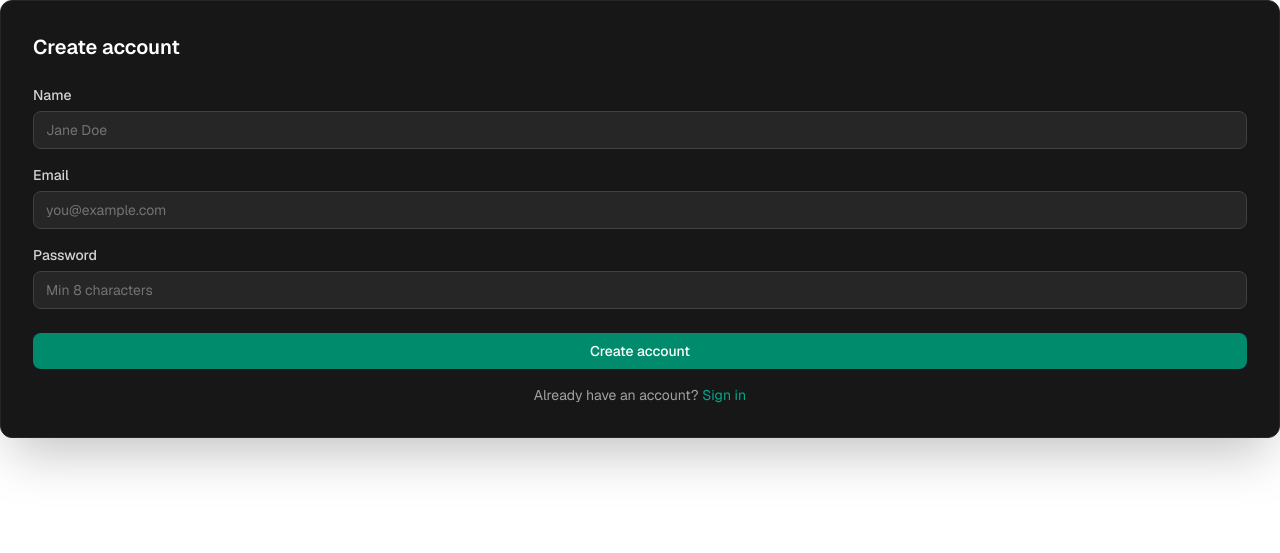
Test: Register page › displays error on failure
Type "Jane" into the field labelled "Name".
click(640, 130); type("Jane")  # box x1=33 y1=111 x2=1247 y2=149
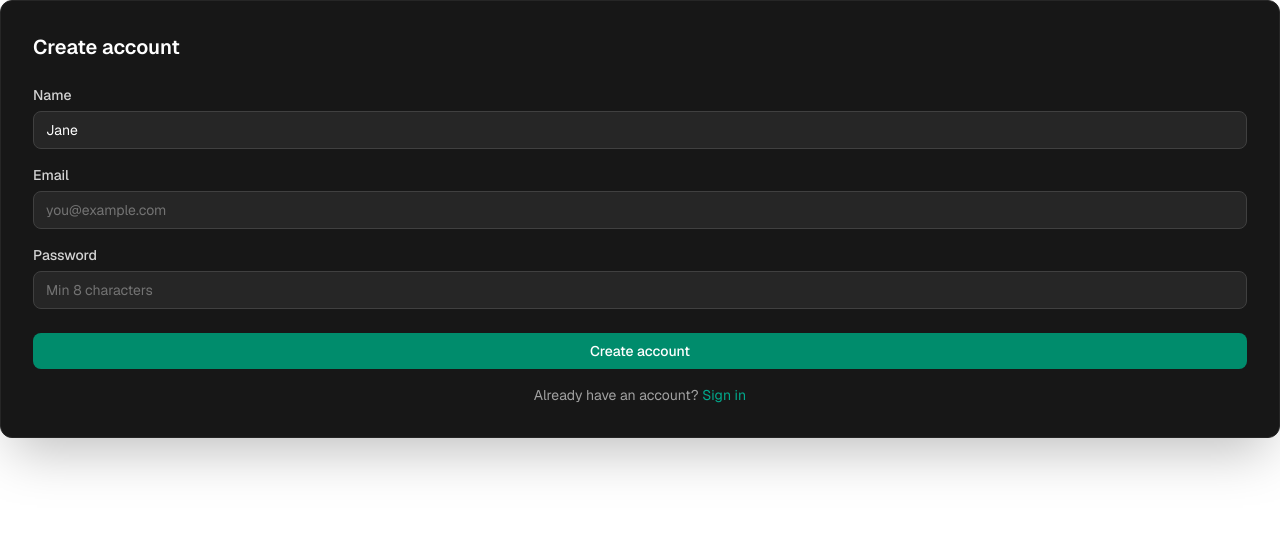
Type "j@b.com" into the field labelled "Email".
click(640, 210); type("j@b.com")  # box x1=33 y1=191 x2=1247 y2=229
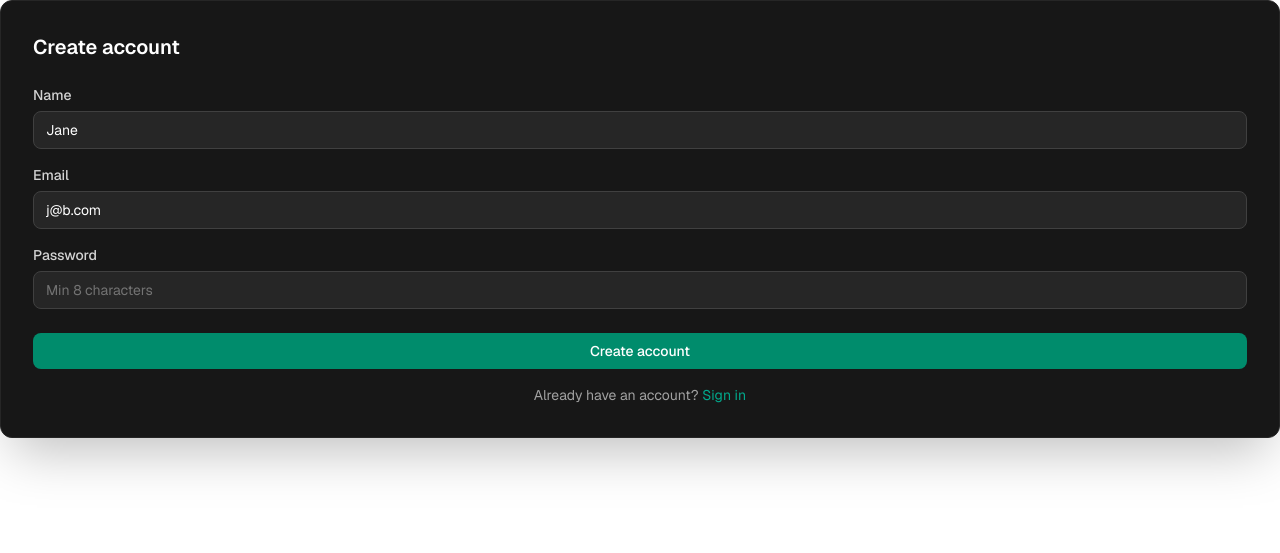
Type "pass1234" into the password field labelled "Password".
click(640, 290); type("pass1234")  # box x1=33 y1=271 x2=1247 y2=309
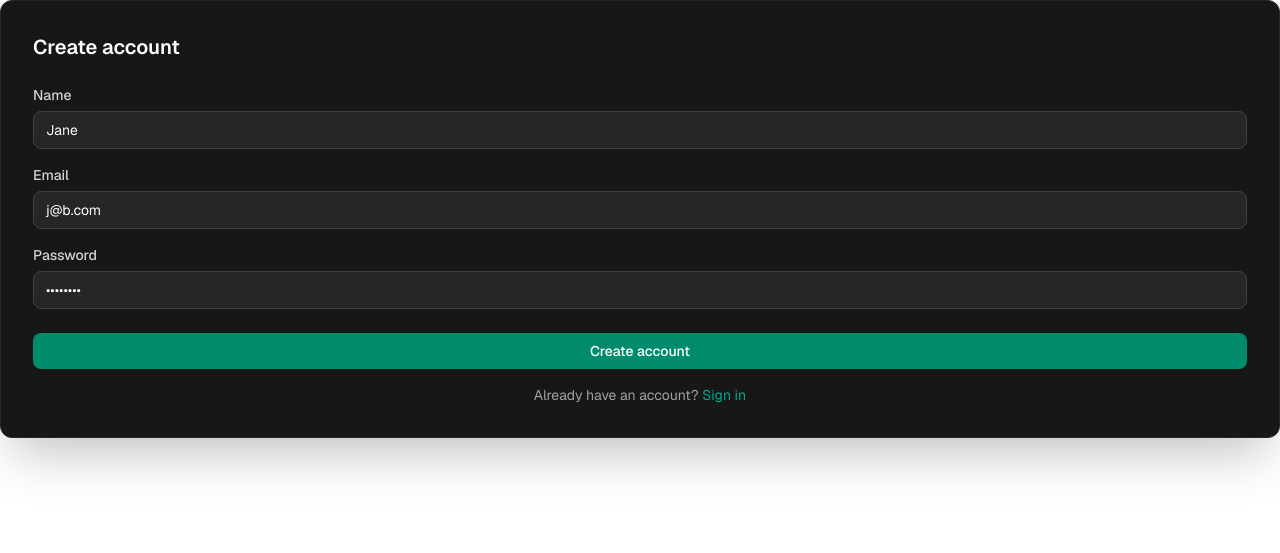
Submit the form "Create account"
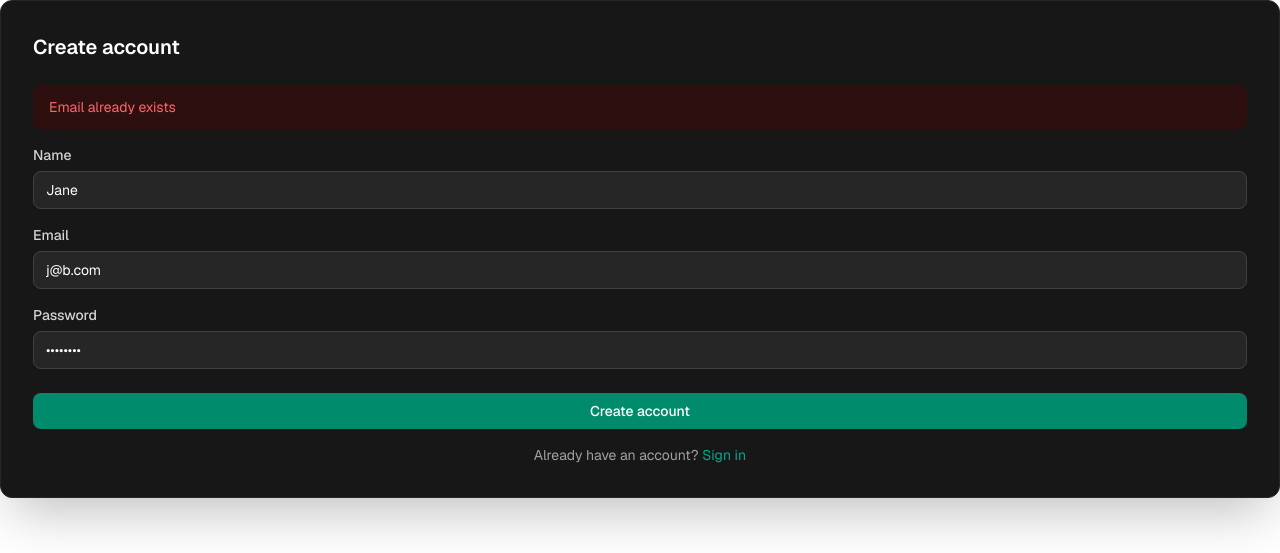
Now the text "Email already exists" is shown, box x1=33 y1=85 x2=1247 y2=129
